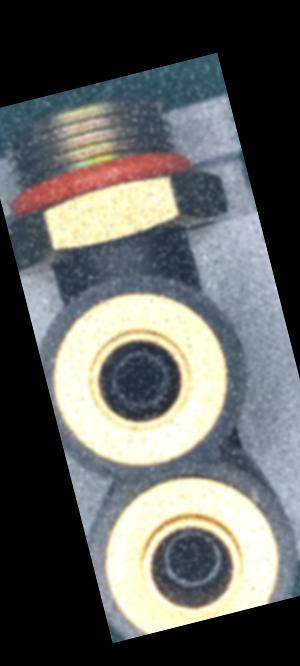joint line: (112, 253, 125, 275)
white mark: (105, 239, 117, 253)
